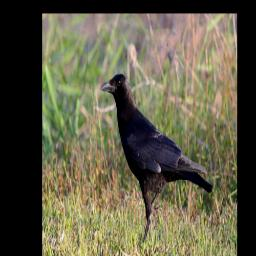Crow: (99, 71, 214, 248)
